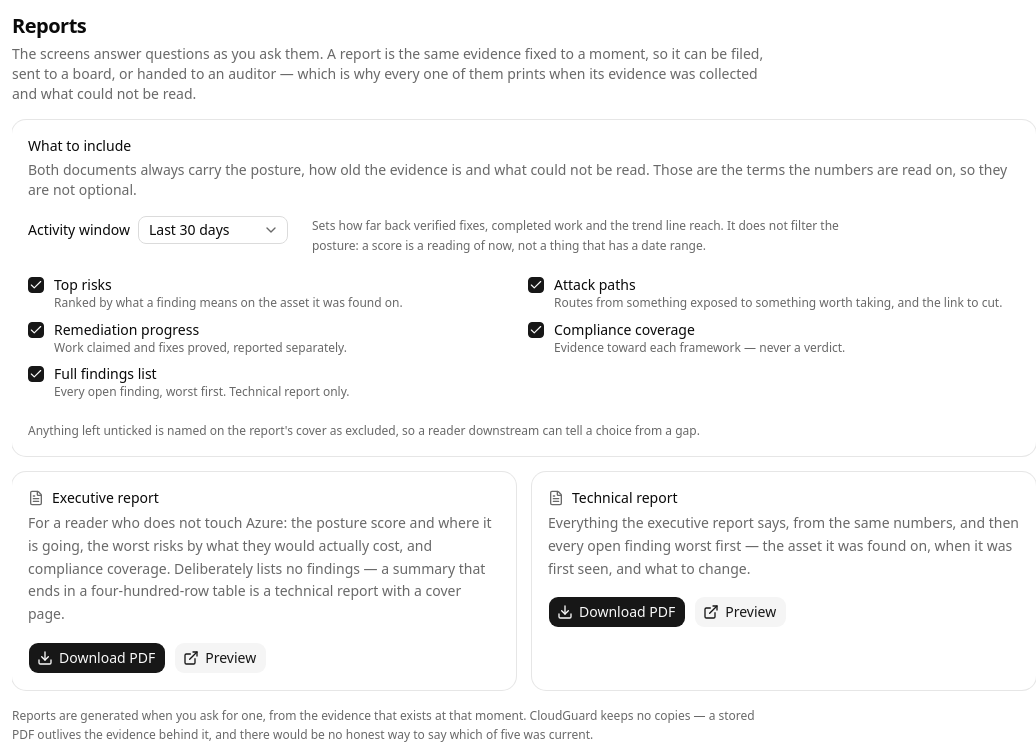
Scenario: ReportsPage › names a server that cannot render PDFs, rather than blaming the request
The image size is (1036, 754).
Click the 2nd button "Download PDF": click(97, 658) [28, 642, 166, 674]
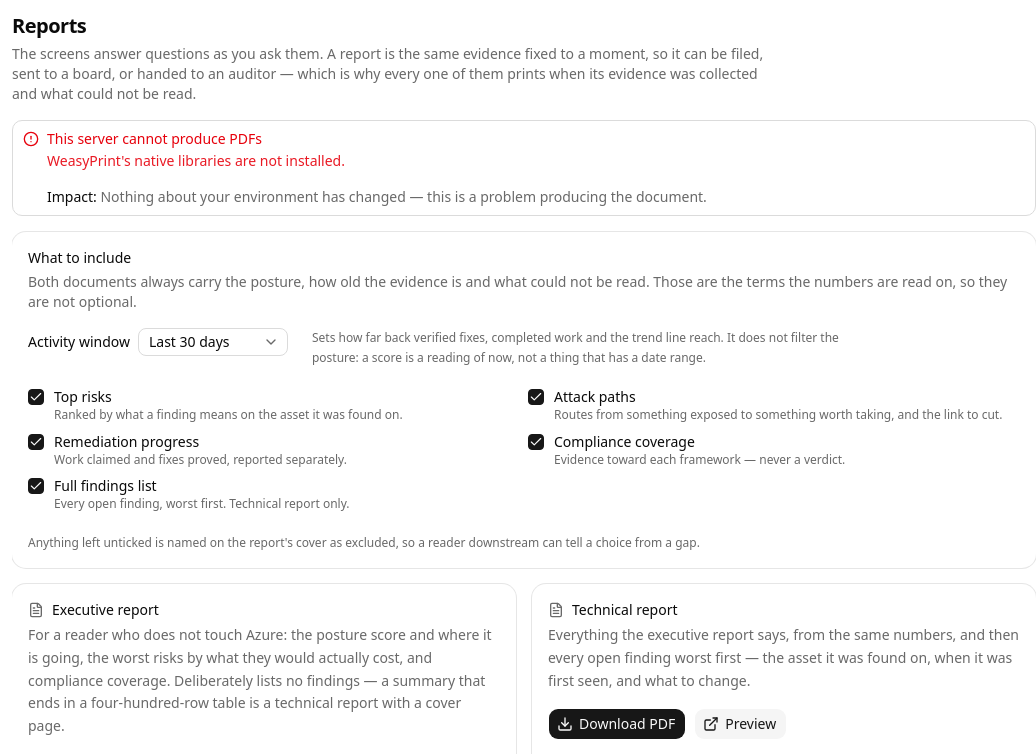
Expected: the text "This server cannot produce PDFs" is shown, [47, 129, 262, 148]
Expected: the text "WeasyPrint's native libraries are not installed." is shown, [47, 151, 345, 170]
